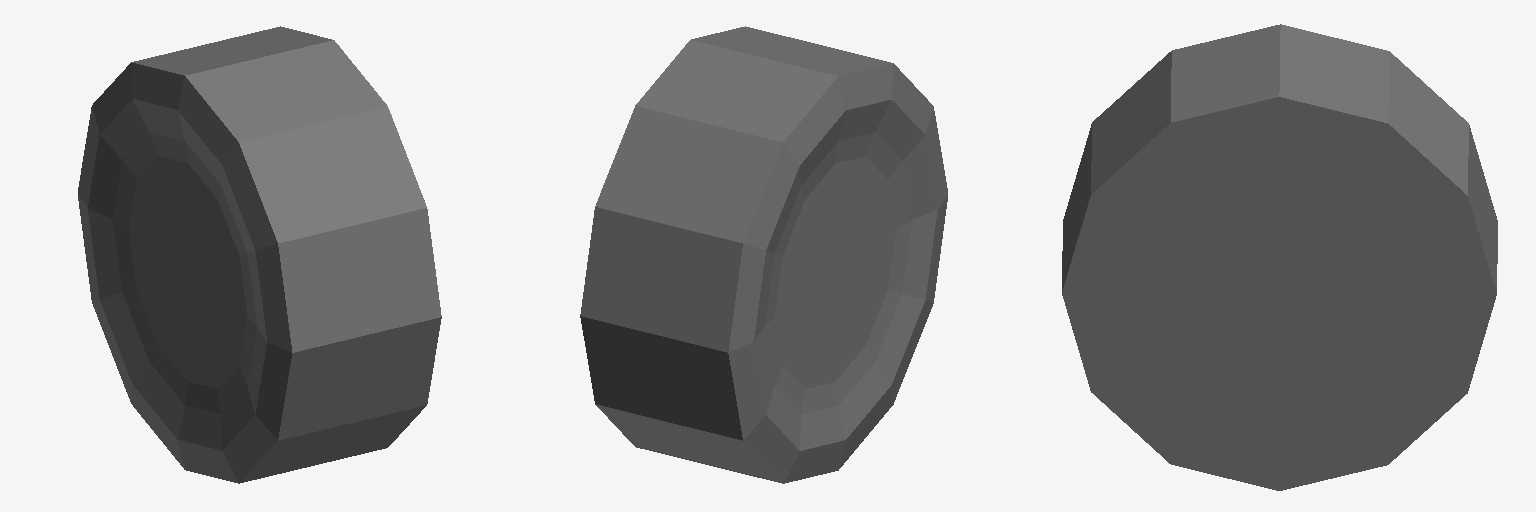
Rendered from llantaAdIzqCJ.obj.
3 views of the same model, side by side, from view 1: azimuth 30°, elevation 25°; view 2: azimuth 150°, elevation 25°; view 3: azimuth 270°, elevation 25° (orthographic).
Visible parts, largest first — view 1: llantaAdIzq; view 2: llantaAdIzq; view 3: llantaAdIzq.
Part boxes in pixels (x1,y1,x2,y2): llantaAdIzq: (78,26,441,483); llantaAdIzq: (580,26,947,483); llantaAdIzq: (1062,24,1497,490).
Size of the model in its own units: 1.77 by 4.22 by 4.23.